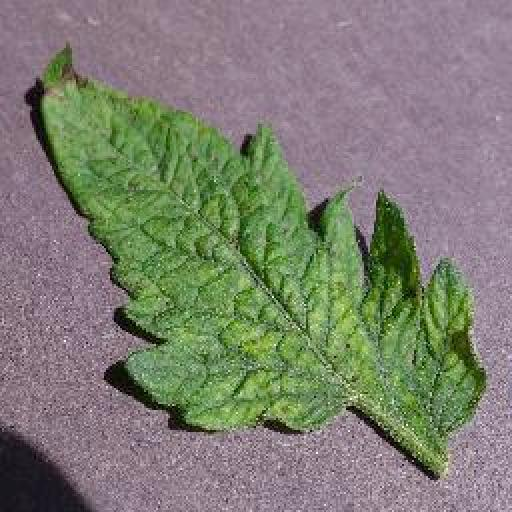disease_tomato: (36, 42, 486, 440)
